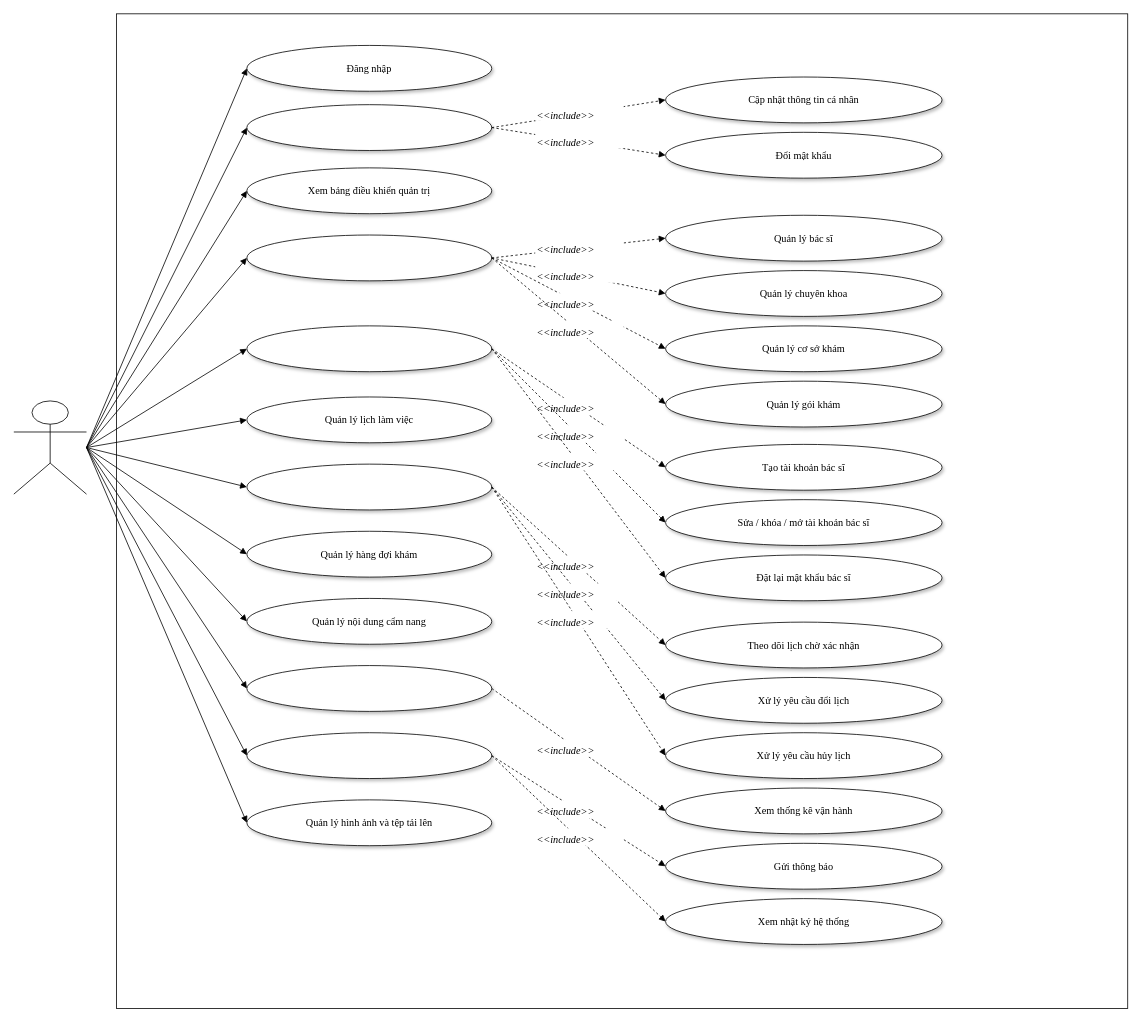
Image size: 1142x1022. Some labels were removed from this diagram. The shapes that lost their labels are listed below. From the top down, each one's centre as x and y in pixels, then its label:
At (x=370, y=128): "Quản lý tài khoản cá nhân".
At (x=370, y=258): "Quản lý dữ liệu nền".
At (x=370, y=349): "Quản lý tài khoản bác sĩ".
At (x=50, y=447): "Quản trị viên".
At (x=370, y=487): "Quản lý lịch hẹn".
At (x=370, y=689): "Theo dõi vận hành hệ thống".
At (x=370, y=756): "Quản lý thông báo và nhật ký hệ thống".
